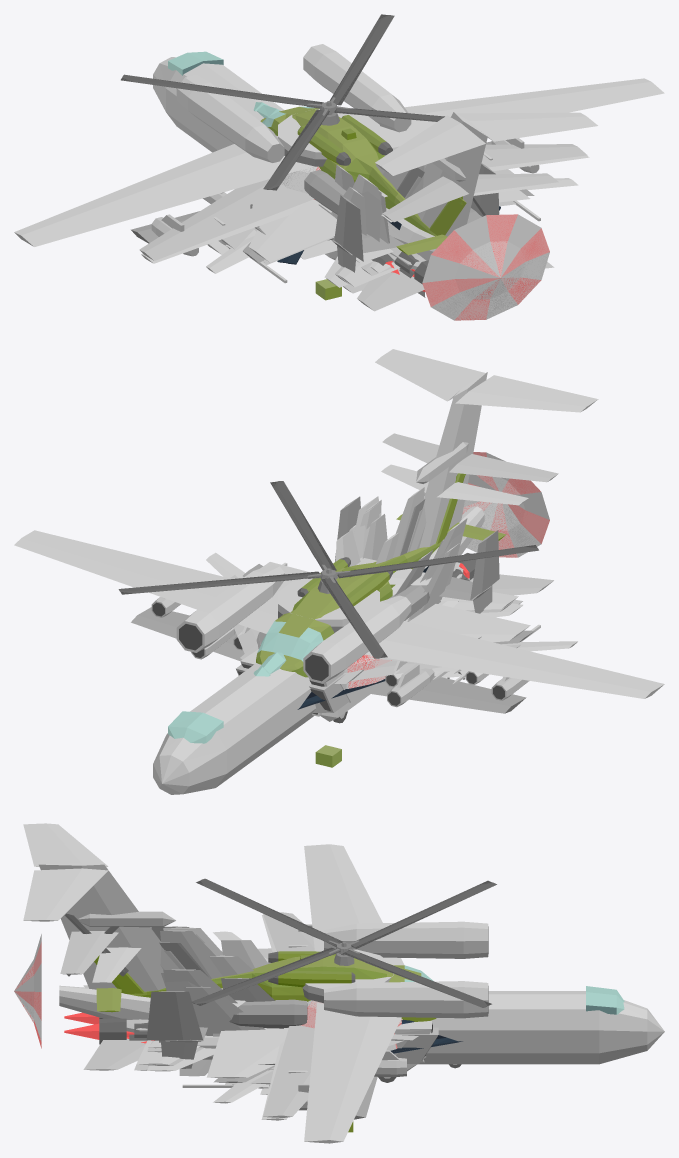
The model's file is stflt.glb.
The picture shows the model from 3 angles, top to bottom: view 1: azimuth 30°, elevation 25°; view 2: azimuth 150°, elevation 25°; view 3: azimuth 270°, elevation 25°; orthographic projection. The views are drawn at different scales.
Visible parts, largest first — view 1: stflt_006_lod0, stflt_030_lod0, stflt_035_lod0_s7v1, stflt_025_lod0, stflt_000_lod0, stflt_032_lod0, stflt_025_lod1_part1, stflt_029_lod0, stflt_009_lod0, stflt_022_lod0, stflt_025_lod2_part1, stflt_009_lod0_part1 (+5 smaller); view 2: stflt_006_lod0, stflt_032_lod0, stflt_025_lod0, stflt_030_lod0, stflt_000_lod0, stflt_025_lod1_part1, stflt_035_lod0_s7v1, stflt_029_lod0, stflt_009_lod0, stflt_021_lod0, stflt_025_lod2_part1, stflt_005_lod0 (+7 smaller); view 3: stflt_006_lod0, stflt_030_lod0, stflt_000_lod0, stflt_032_lod0, stflt_025_lod0, stflt_029_lod0, stflt_025_lod1_part1, stflt_005_lod0, stflt_009_lod0, stflt_003_lod0, stflt_035_lod0_s7v1, stflt_025_lod2_part1 (+9 smaller).
Boxes of the visible parts, left/top/right/bottom form: stflt_006_lod0: left=14, top=44, right=664, bottom=260; stflt_030_lod0: left=139, top=138, right=587, bottom=260; stflt_035_lod0_s7v1: left=422, top=214, right=549, bottom=320; stflt_025_lod0: left=260, top=106, right=466, bottom=255; stflt_000_lod0: left=248, top=174, right=530, bottom=287; stflt_032_lod0: left=131, top=102, right=499, bottom=272; stflt_025_lod1_part1: left=122, top=15, right=444, bottom=189; stflt_029_lod0: left=221, top=158, right=554, bottom=311; stflt_009_lod0: left=141, top=152, right=589, bottom=263; stflt_022_lod0: left=249, top=190, right=540, bottom=293; stflt_025_lod2_part1: left=121, top=14, right=444, bottom=190; stflt_009_lod0_part1: left=278, top=109, right=379, bottom=166; stflt_006_lod0: left=14, top=349, right=664, bottom=794; stflt_032_lod0: left=131, top=496, right=526, bottom=713; stflt_025_lod0: left=256, top=473, right=506, bottom=677; stflt_030_lod0: left=151, top=433, right=558, bottom=707; stflt_000_lod0: left=240, top=496, right=530, bottom=712; stflt_025_lod1_part1: left=119, top=481, right=538, bottom=658; stflt_035_lod0_s7v1: left=424, top=452, right=549, bottom=557; stflt_029_lod0: left=230, top=442, right=553, bottom=683; stflt_009_lod0: left=233, top=464, right=528, bottom=687; stflt_021_lod0: left=236, top=514, right=513, bottom=712; stflt_025_lod2_part1: left=120, top=481, right=537, bottom=658; stflt_005_lod0: left=340, top=525, right=522, bottom=702; stflt_006_lod0: left=23, top=823, right=664, bottom=1143; stflt_030_lod0: left=60, top=912, right=406, bottom=1118; stflt_000_lod0: left=134, top=927, right=432, bottom=1078; stflt_032_lod0: left=146, top=926, right=377, bottom=1119; stflt_025_lod0: left=94, top=951, right=436, bottom=1021; stflt_029_lod0: left=78, top=911, right=418, bottom=1084; stflt_025_lod1_part1: left=191, top=878, right=496, bottom=1007; stflt_005_lod0: left=147, top=951, right=407, bottom=1088; stflt_009_lod0: left=92, top=915, right=307, bottom=1120; stflt_003_lod0: left=221, top=940, right=274, bottom=1001; stflt_035_lod0_s7v1: left=14, top=934, right=41, bottom=1048; stflt_025_lod2_part1: left=191, top=879, right=496, bottom=1007.
Size of what is drawn, in the model's own units: 454 by 189 by 422.
